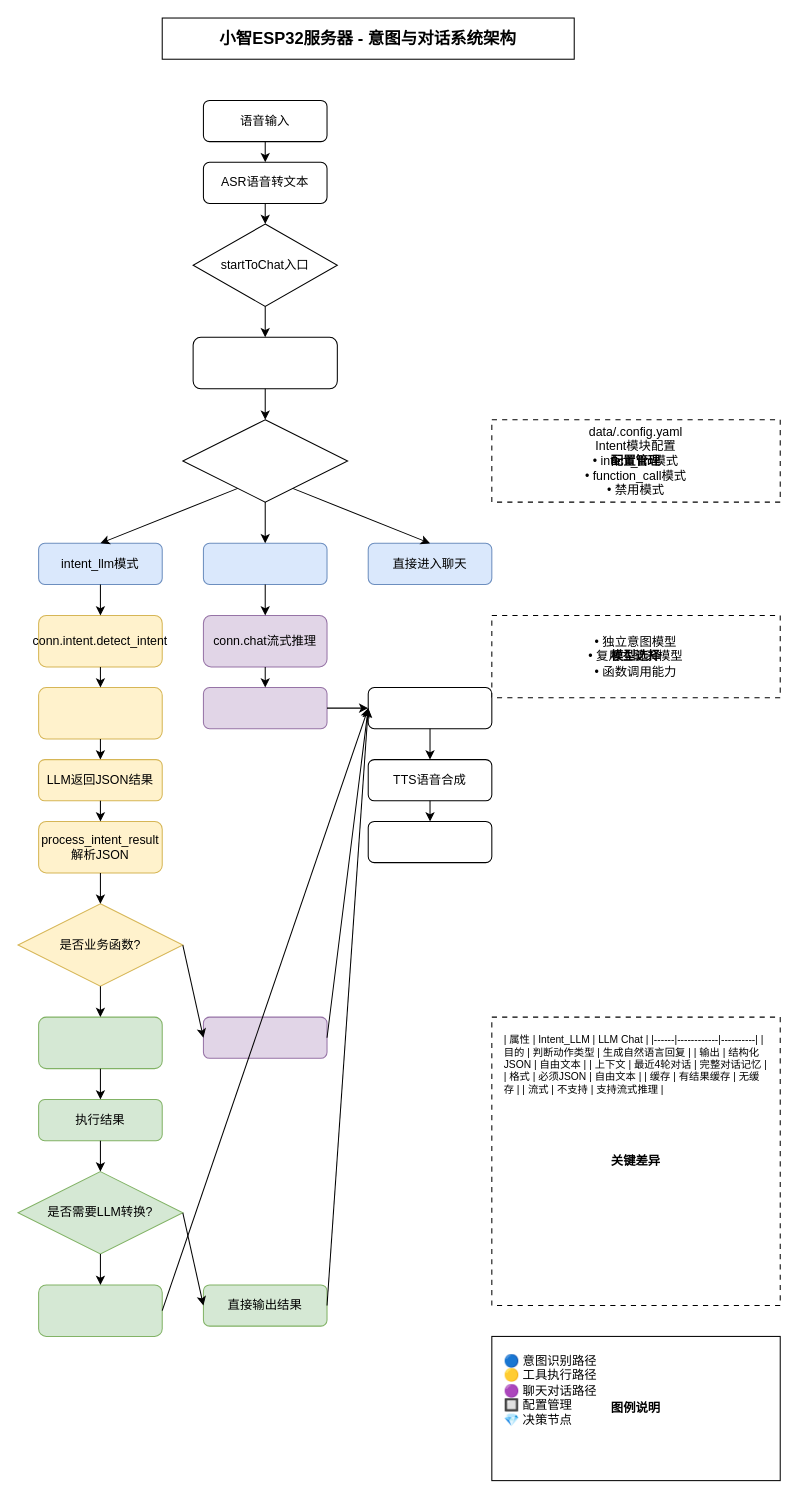
This 798x1499 diagram has some shape labels left out. The centre of each missing label's shape, as x and y in pixels:
"function_call模式" belongs at (x=264, y=563).
"handle_user_intent 意图识别" belongs at (x=264, y=362).
"replyResult转换为人话" belongs at (x=100, y=1310).
"UnifiedToolHandler 工具执行" belongs at (x=100, y=1042).
"意图模式配置" belongs at (x=265, y=460).
"打包最近4轮对话 +动态函数列表" belongs at (x=100, y=712).
"流式输出" belongs at (x=429, y=707).
"记忆增强" belongs at (x=264, y=707).
"进入主聊天通道" belongs at (x=264, y=1037).
"音频输出" belongs at (x=429, y=841).
